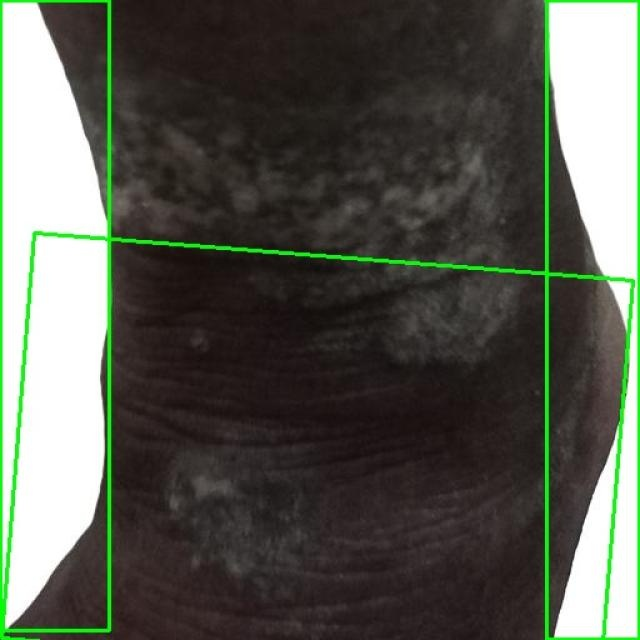Eczema: (2, 233, 633, 640), (0, 0, 109, 630), (546, 0, 639, 639)
